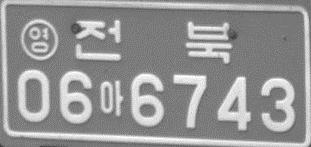0: (15, 68, 51, 123)
3: (259, 77, 295, 133)
4: (216, 75, 251, 130)
6: (58, 69, 93, 125), (129, 72, 165, 126)
7: (171, 73, 207, 129)
아: (99, 78, 124, 116)
영: (20, 18, 59, 60)
전북_D: (73, 19, 233, 64)
